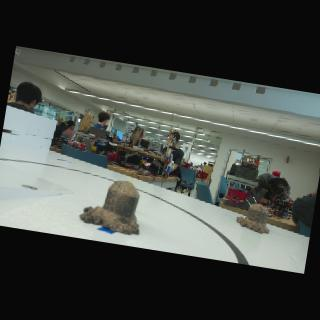teletubby: (130, 179, 132, 183)
